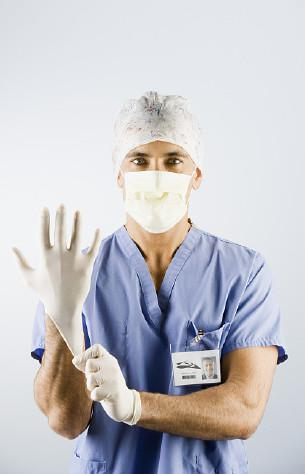OK: (120, 146, 207, 233)
